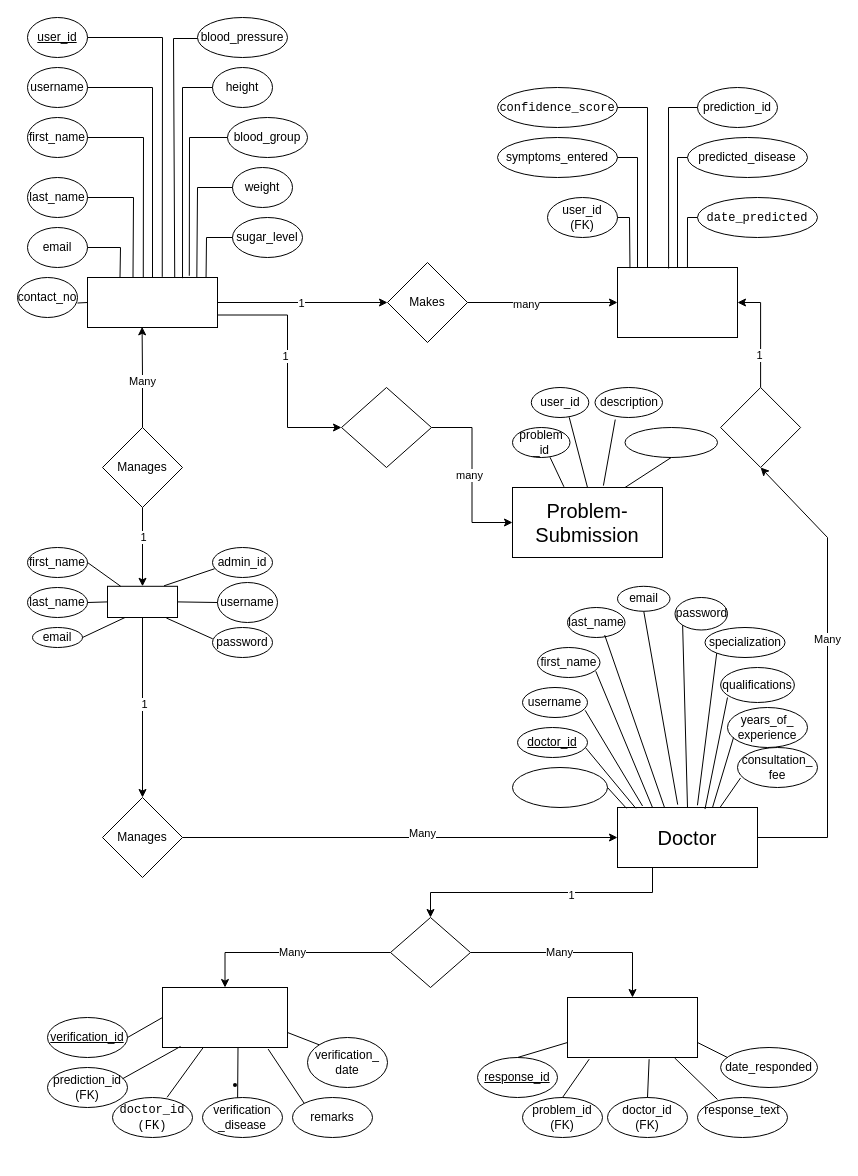
This 858x1176 diagram has some shape labels left out. The box of each missing label's shape, as (x1, y1, x2, y2) in pixels:
Admin: (106, 585, 178, 618)
Can: (390, 916, 470, 988)
date_submitted: (624, 426, 718, 458)
Disease-Prediction: (616, 266, 738, 338)
Doctor- Response: (566, 996, 698, 1058)
Doctor- Verification: (162, 986, 288, 1048)
license_number: (512, 766, 608, 808)
Patient: (86, 276, 218, 328)
Submits: (340, 386, 432, 468)
Verifies: (720, 386, 801, 468)
